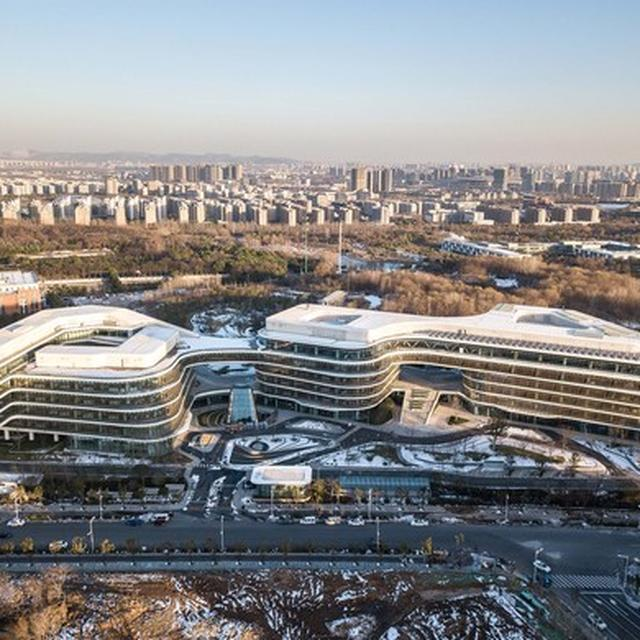building: (0, 299, 640, 459), (5, 194, 606, 228), (440, 231, 640, 278), (144, 162, 242, 186), (348, 168, 394, 192)
